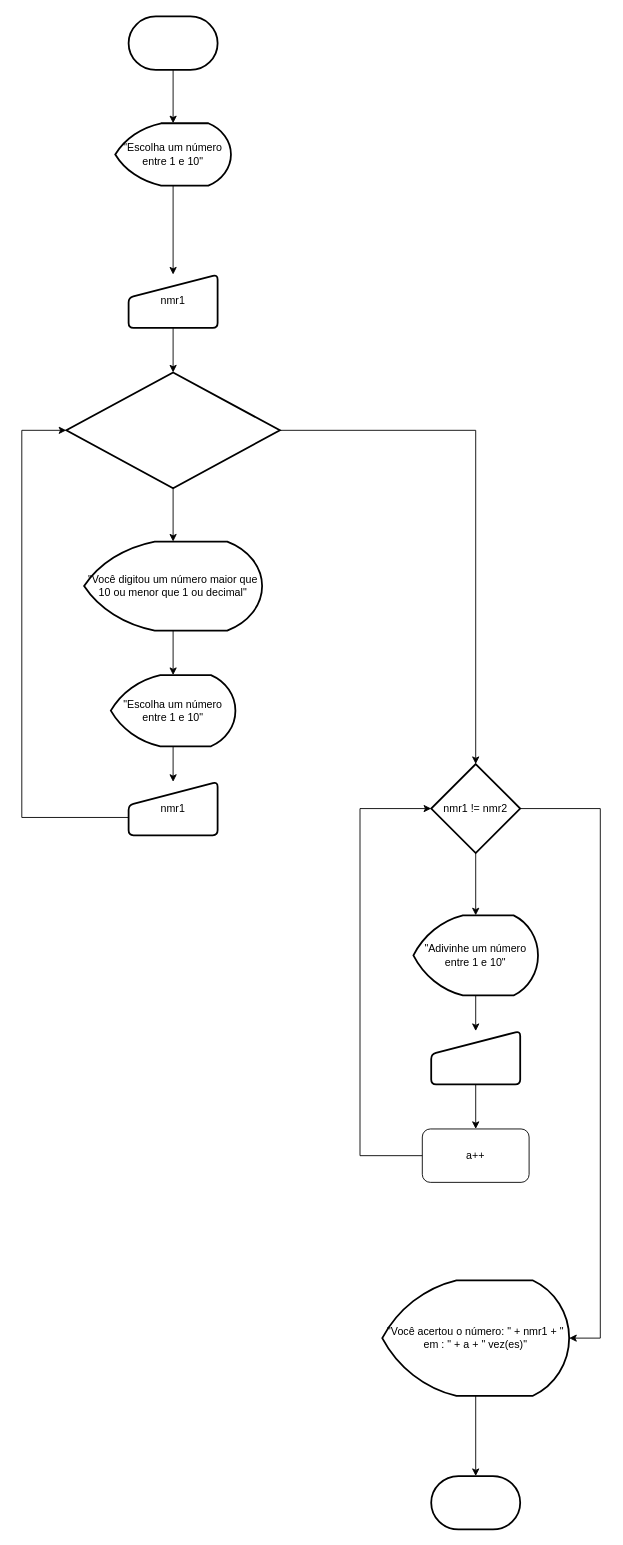
The diagram is 623 pixels wide and 1545 high, and some of its shapes have lost their labels. Each missing label, with the box of its shape:
fim: (430, 1475, 521, 1530)
inicio: (127, 15, 218, 70)
nmr1 % 1 != 0 || nmr1 < 1 || nmr1 > 11: (65, 371, 280, 489)
nmr2: (430, 1030, 521, 1085)
